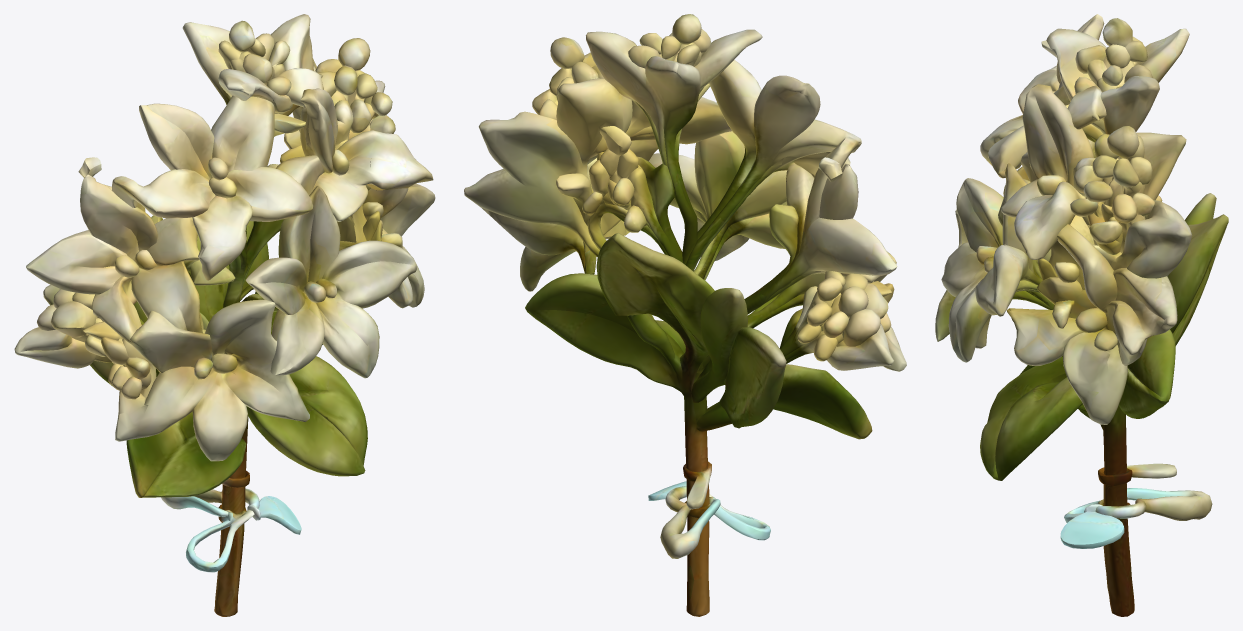
Rendered from stephanotis.glb.
The picture shows the model from 3 angles, left to right: view 1: azimuth 30°, elevation 25°; view 2: azimuth 150°, elevation 25°; view 3: azimuth 270°, elevation 25°; orthographic projection.
Parts seen in each view (by area): view 1: model; view 2: model; view 3: model.
Boxes of the visible parts, <box> form: model: <box>14,14,435,616</box>; model: <box>464,14,906,616</box>; model: <box>935,14,1228,616</box>.
Bounding box in the file's own units: 1.4 × 1.9 × 0.8412.
1 material, 1 textured.
